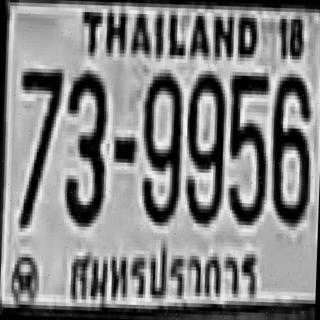N03: (61, 66, 105, 223)
N05: (225, 68, 269, 222)
N06: (268, 69, 312, 223)
N07: (16, 64, 62, 225), (18, 64, 62, 175)
N09: (138, 68, 182, 222), (182, 68, 226, 222)
